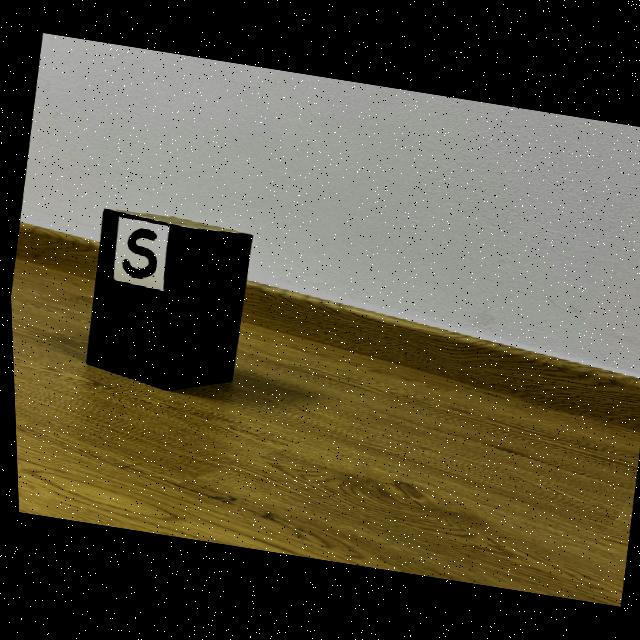S: (120, 229, 155, 278)
